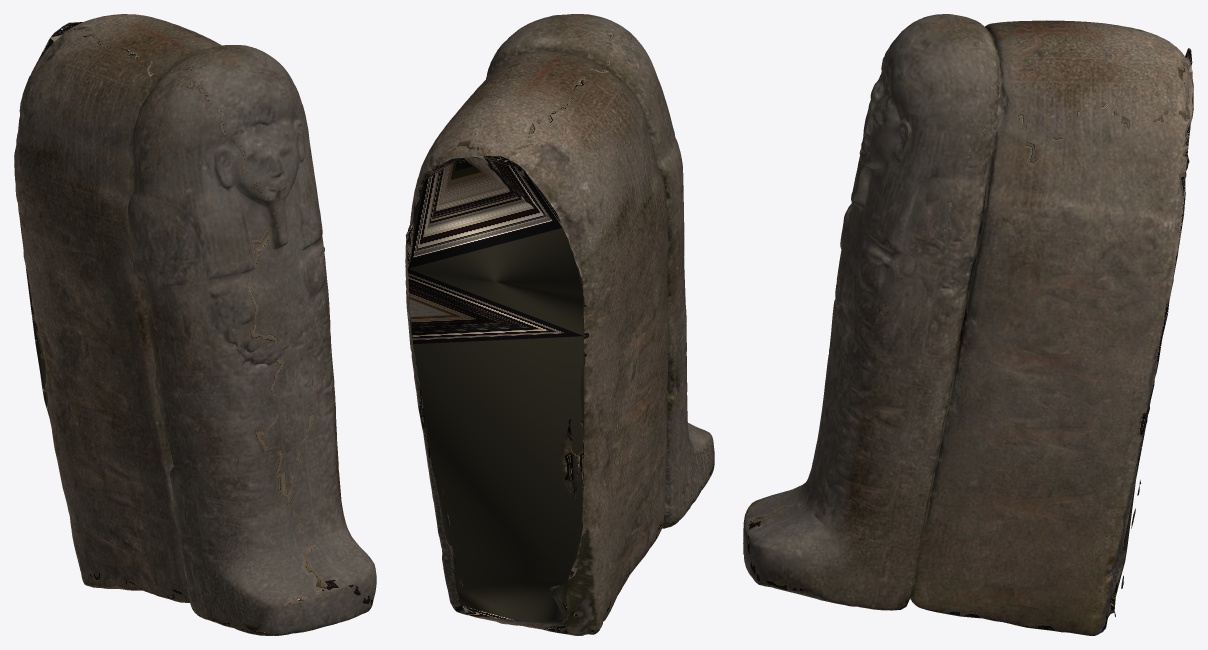
File: sarcofago-hunefer.glb
3 views of the same model, side by side, from view 1: azimuth 30°, elevation 25°; view 2: azimuth 150°, elevation 25°; view 3: azimuth 270°, elevation 25° (orthographic). The views are drawn at different scales.
Visible parts, largest first — view 1: Object_2; view 2: Object_2; view 3: Object_2.
Part boxes in pixels (box(x1,y1,x2,y2)): Object_2: box(14, 14, 376, 635); Object_2: box(405, 14, 714, 635); Object_2: box(743, 14, 1193, 635).
Bounding box in the file's own units: 929 × 2411 × 1676.
1 material, 1 textured.
